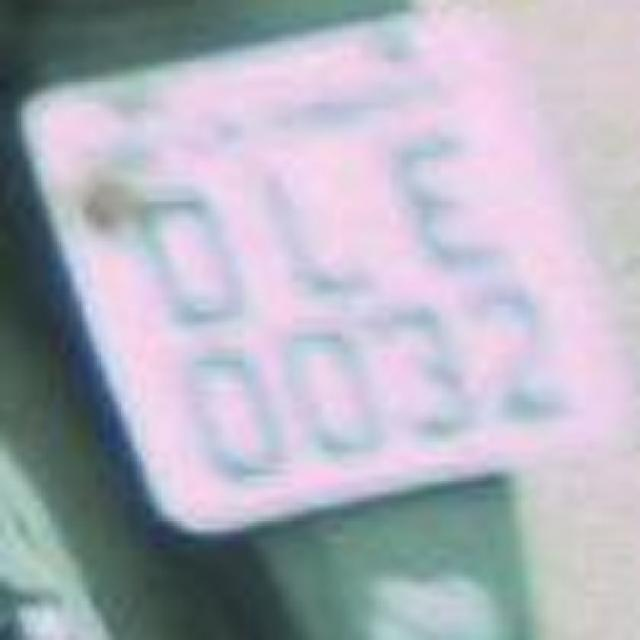0: (164, 328, 316, 500), (268, 300, 408, 475)
2: (440, 260, 600, 435)
3: (356, 280, 509, 445)
B: (364, 108, 531, 284)
J: (224, 135, 396, 300)
O: (100, 160, 272, 345)
